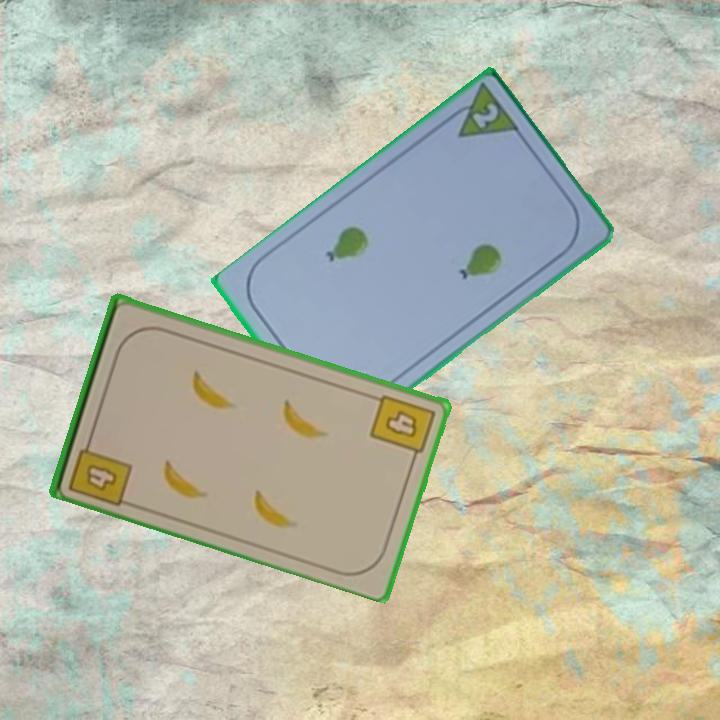2p: (468, 100, 502, 133)
4b: (64, 431, 135, 509), (366, 390, 438, 465)
